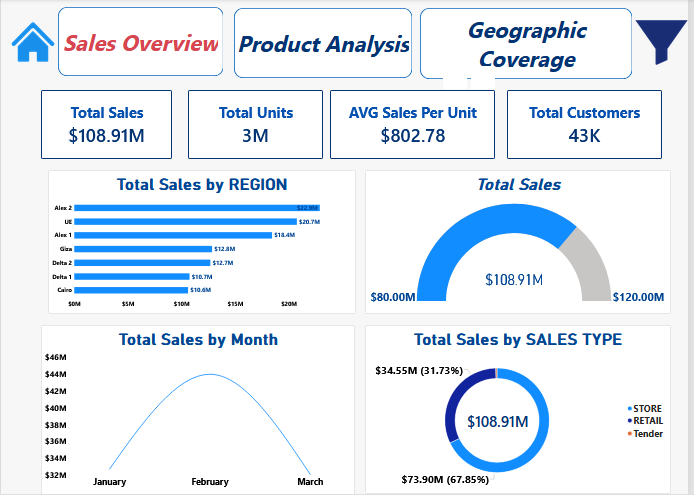

The dashboard page shown, as its layout file describes it:
{"tool":"powerbi","page":{"name":"Sales Overview","canvas":[2500,1800],"ordinal":1},"visuals":[{"type":"shape","box":[1523.6,31.9,772.4,258.7],"z":0},{"type":"shape","box":[846.9,31.9,648.4,255.1],"z":1000},{"type":"shape","box":[205.5,28.3,602.4,251.6],"z":2000},{"type":"cardVisual","fields":{"Data":["All Measures.Total Units"]},"box":[680.3,329.5,492.5,251.6],"z":3000},{"type":"cardVisual","fields":{"Data":["All Measures.Total Customers"]},"box":[1839,329.5,563.4,251.6],"z":4000},{"type":"cardVisual","fields":{"Data":["All Measures.AVG Sales"]},"box":[1197.6,329.5,602.4,251.6],"z":5000},{"type":"barChart","fields":{"Category":["EGPI.REGION"],"Y":["All Measures.Total Sales"]},"box":[170.1,623.6,1119.7,524.4],"z":6000},{"type":"lineChart","fields":{"Category":["EGPI.Month.Variation.Date Hierarchy.Year","EGPI.Month.Variation.Date Hierarchy.Quarter","EGPI.Month.Variation.Date Hierarchy.Month"],"Y":["All Measures.Total Sales"]},"box":[145.3,1187,1144.5,616.5],"z":7000},{"type":"donutChart","fields":{"Category":["EIPICO.SALES TYPE"],"Y":["All Measures.Total Sales"]},"box":[1325.2,1187,1112.6,613],"z":8000},{"type":"image","box":[0,28.3,233.9,255.1],"z":9000},{"type":"cardVisual","fields":{"Data":["All Measures.Total Sales"]},"box":[145.3,329.5,478.3,251.6],"z":10000},{"type":"gauge","fields":{"Y":["All Measures.Total Sales"]},"box":[1325.2,623.6,1112.6,524.4],"z":11000},{"type":"image","box":[2301.6,28.3,198.4,258.7],"z":12000}]}

Visuals, with their boxes in screenshot pixels (x1, y1, x2, y2), scaled from the page's 2500x1800 canvas onto the 694x495 screenshot:
shape: (423,9,637,80)
shape: (235,9,415,79)
shape: (57,8,224,77)
cardVisual - All Measures.Total Units: (189,91,326,160)
cardVisual - All Measures.Total Customers: (511,91,667,160)
cardVisual - All Measures.AVG Sales: (332,91,500,160)
barChart - EGPI.REGION x All Measures.Total Sales: (47,171,358,316)
lineChart - EGPI.Month.Variation.Date Hierarchy.Year x EGPI.Month.Variation.Date Hierarchy.Quarter: (40,326,358,494)
donutChart - EIPICO.SALES TYPE x All Measures.Total Sales: (368,326,677,494)
image: (0,8,65,78)
cardVisual - All Measures.Total Sales: (40,91,173,160)
gauge - All Measures.Total Sales: (368,171,677,316)
image: (639,8,693,79)
